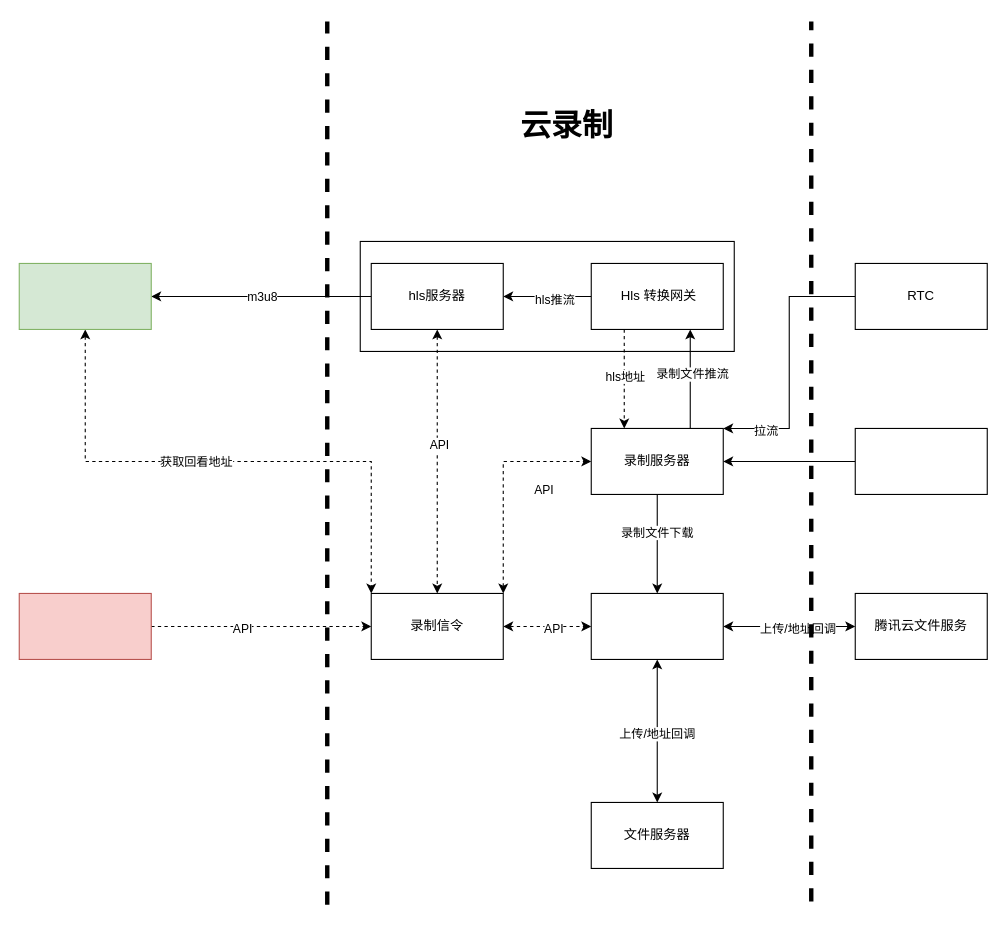
Some shapes in this 1007 by 926 pixel diagram are drawn without their labels. Each missing label, with the centre of its shape:
"RTMP服务器" goes at point 920,460.
"合成服务器" goes at point 656,625.
"回看客户端" goes at point 84,295.
"客户端/服务器" goes at point 84,625.
